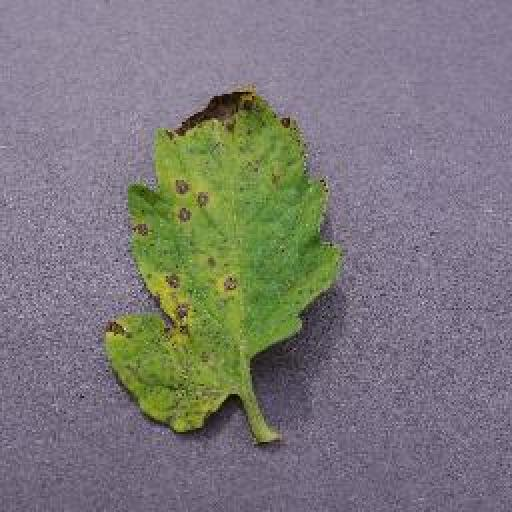Septoria: (107, 84, 335, 428)
